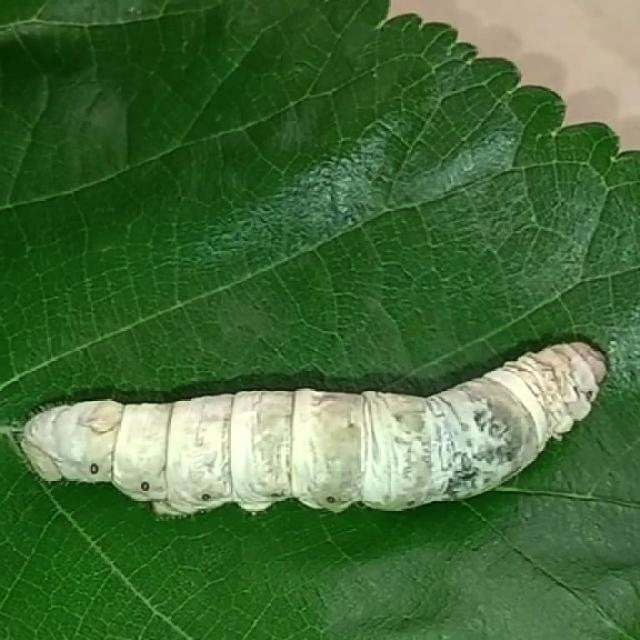Grasserie: (10, 320, 616, 524)
